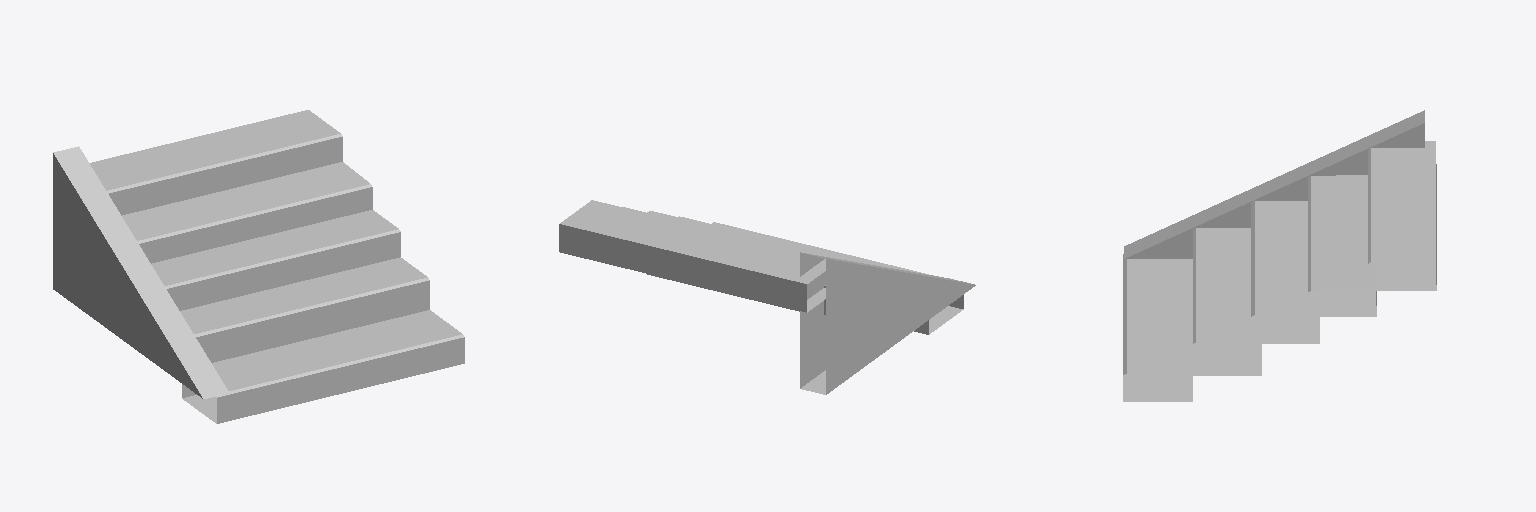
The model's file is Stairs_Exterior_Straight_L.obj.
3 views of the same model, side by side, from view 1: azimuth 30°, elevation 25°; view 2: azimuth 150°, elevation 25°; view 3: azimuth 270°, elevation 25° (orthographic).
Visible parts, largest first — view 1: Stairs_Exterior_Straight_L; view 2: Stairs_Exterior_Straight_L; view 3: Stairs_Exterior_Straight_L.
Part boxes in pixels (left/top/right/bottom): Stairs_Exterior_Straight_L: left=53, top=110, right=464, bottom=423; Stairs_Exterior_Straight_L: left=559, top=200, right=975, bottom=394; Stairs_Exterior_Straight_L: left=1123, top=110, right=1436, bottom=401.
Size of the model in its own units: 2 by 1.2 by 2.08.